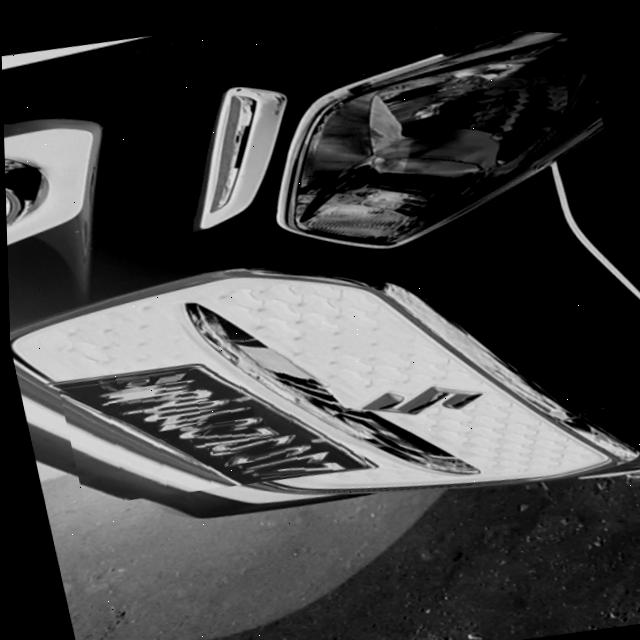0: (138, 392, 230, 422)
2: (222, 434, 310, 466), (208, 427, 294, 457)
6: (190, 418, 277, 449)
7: (153, 399, 252, 432), (254, 452, 343, 483), (241, 444, 329, 473)
C: (175, 410, 261, 439)
IND: (112, 364, 188, 392)
Indian_registered: (56, 366, 363, 482)
M: (94, 372, 198, 405)
P: (113, 381, 213, 415)
